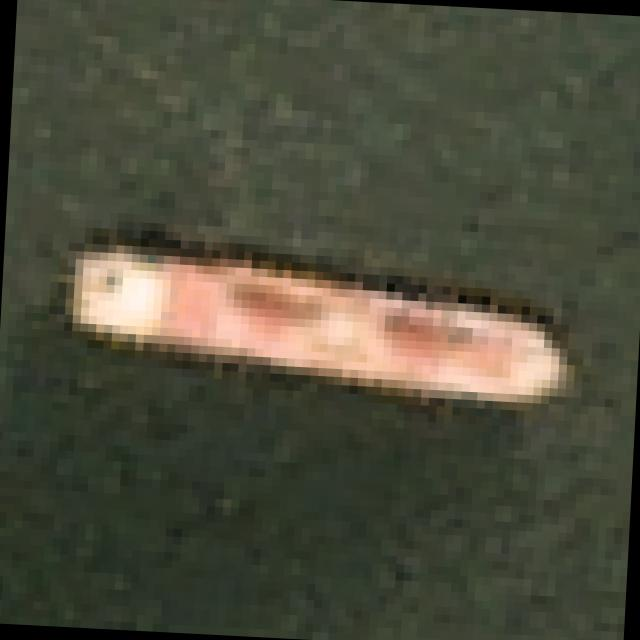ship: (53, 197, 604, 487)
